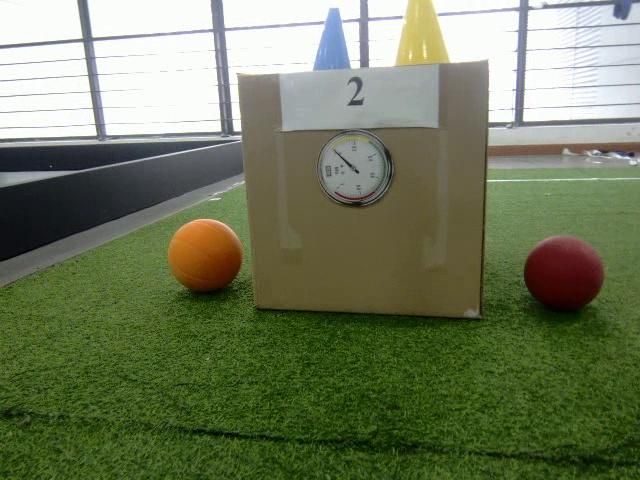2: (344, 74, 366, 110)
Dashboard: (314, 129, 396, 210)
blue_barrel: (311, 7, 353, 72)
orange_ball: (168, 218, 244, 293)
red_ball: (521, 235, 605, 312)
ssi: (324, 162, 334, 179)
yellow_barrel: (389, 0, 453, 68)
